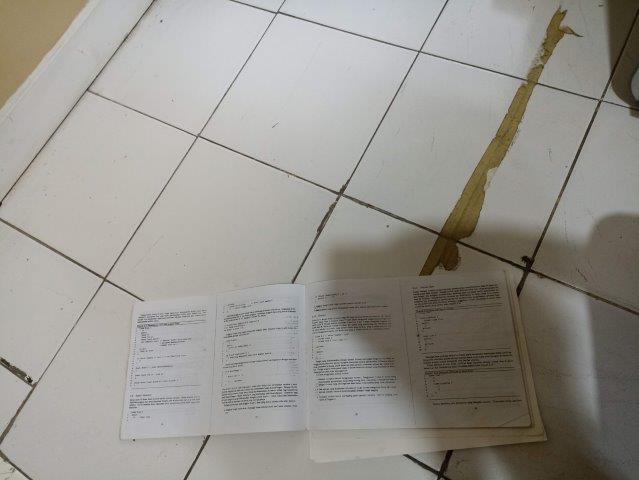kertas: (119, 270, 547, 461)
